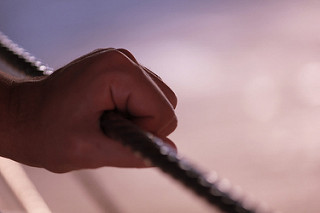fist: (52, 48, 183, 184)
